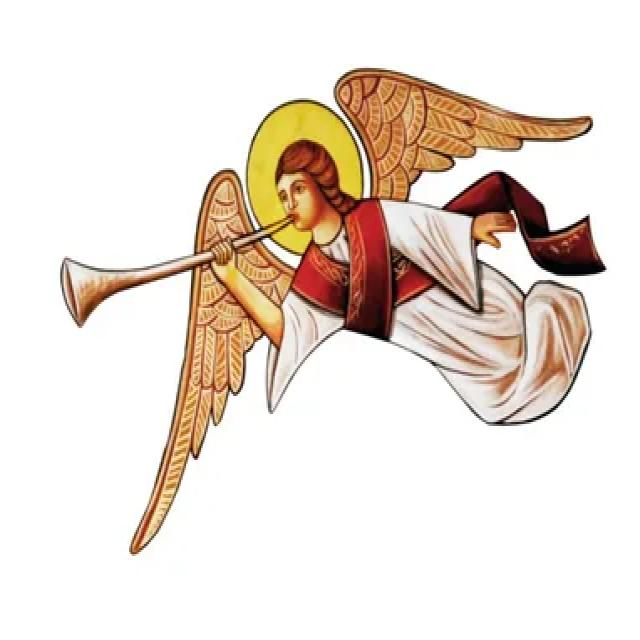angel: (44, 51, 628, 578)
